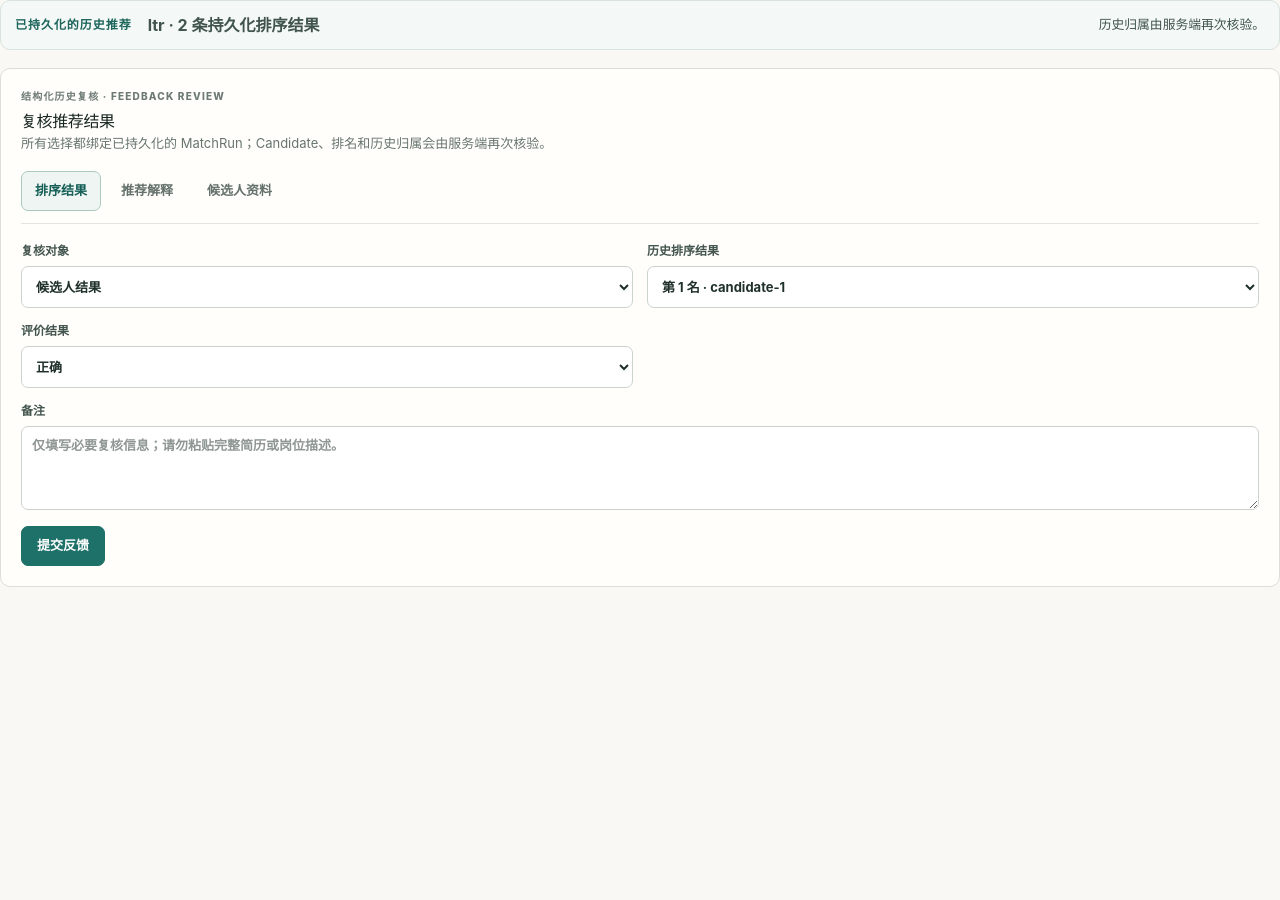
Test: HistoricalFeedbackEntry › does not offer BadCase creation for feedback without an observed problem
Expected: the heading "复核推荐结果" is shown, [21,111,115,131]
Click the button "提交反馈". click: (63, 546)
box: [21,526,105,566]
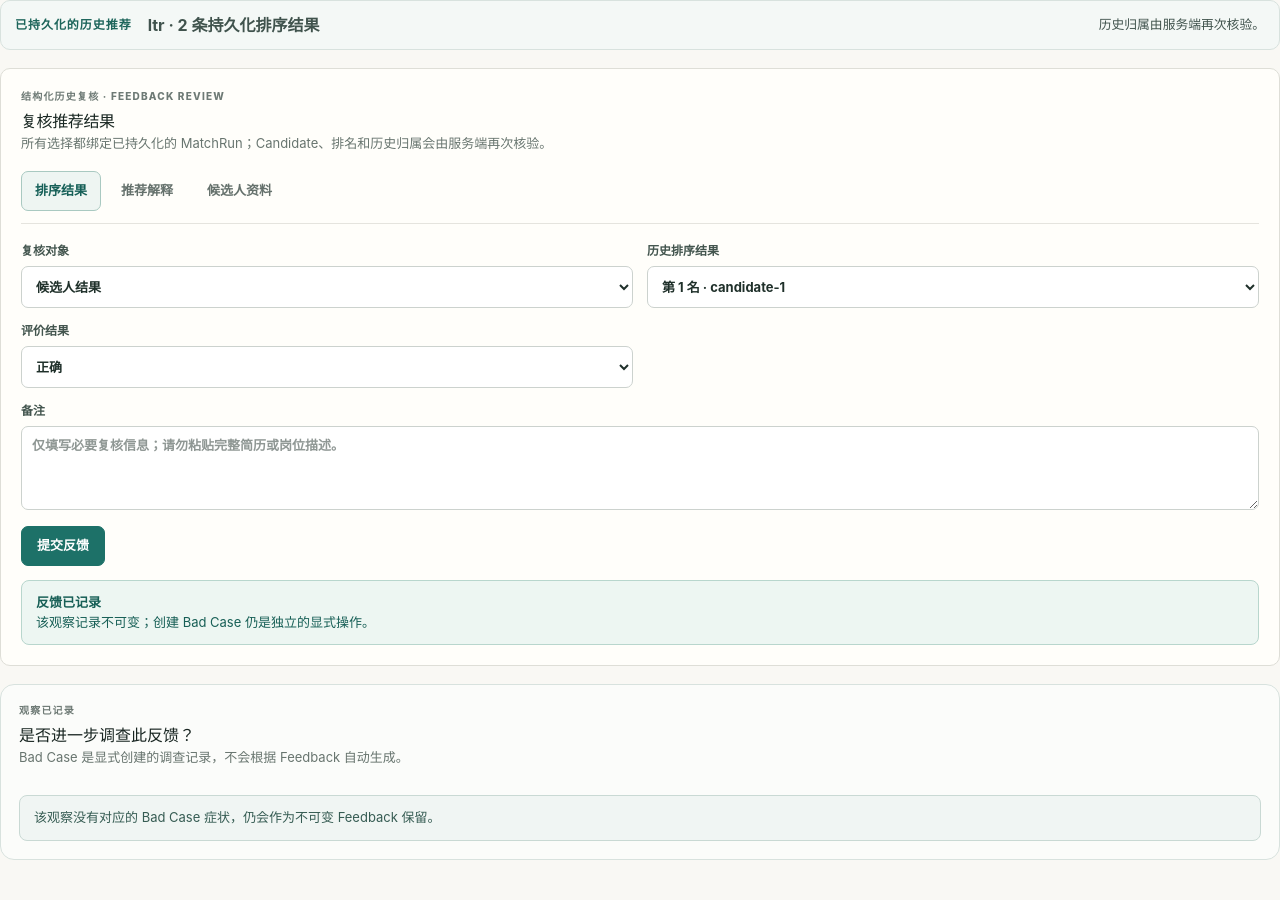
Result: the text "该观察没有对应的 Bad Case 症状，仍会作为不可变 Feedback 保留。" is shown at [19,795,1261,841]
